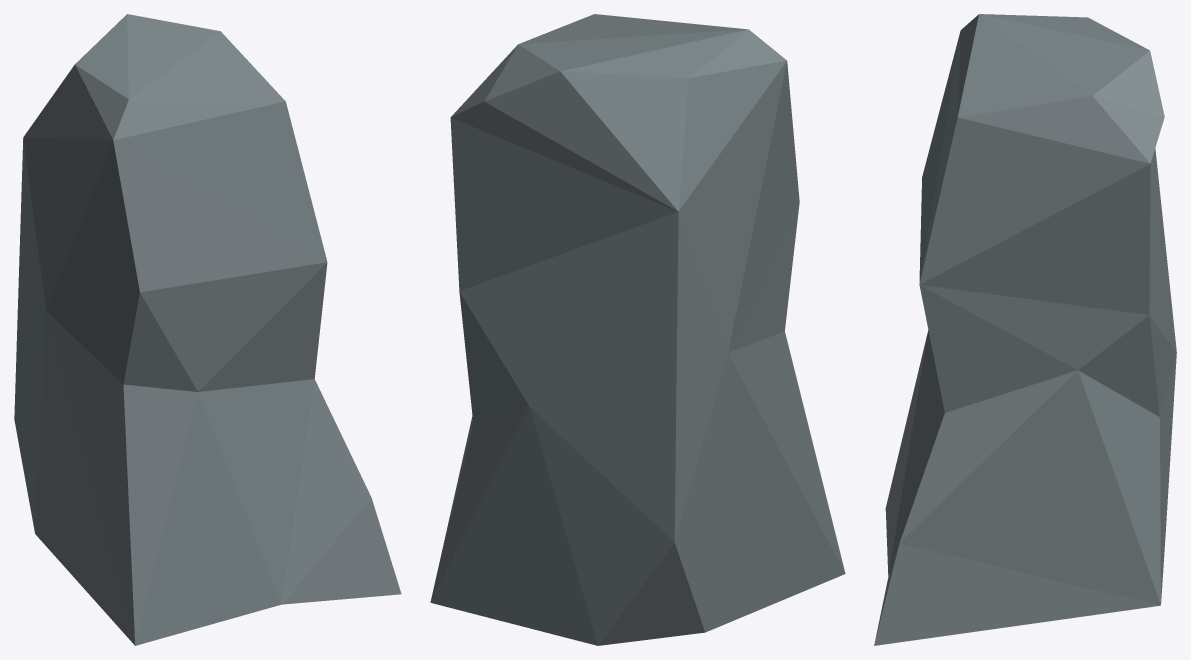
Rendered from BigRock_01.glb.
The picture shows the model from 3 angles, left to right: view 1: azimuth 30°, elevation 25°; view 2: azimuth 150°, elevation 25°; view 3: azimuth 270°, elevation 25°; orthographic projection. The views are drawn at different scales.
Visible parts, largest first — view 1: BigRock_01_LOD0; view 2: BigRock_01_LOD0; view 3: BigRock_01_LOD0.
Boxes of the visible parts, x1,y1,x2,y2 form: BigRock_01_LOD0: [14, 14, 401, 645]; BigRock_01_LOD0: [430, 14, 845, 645]; BigRock_01_LOD0: [874, 14, 1176, 645].
Size of what is drawn, in the model's own units: 1.47 by 2.77 by 1.45.
1 material, 1 textured.
